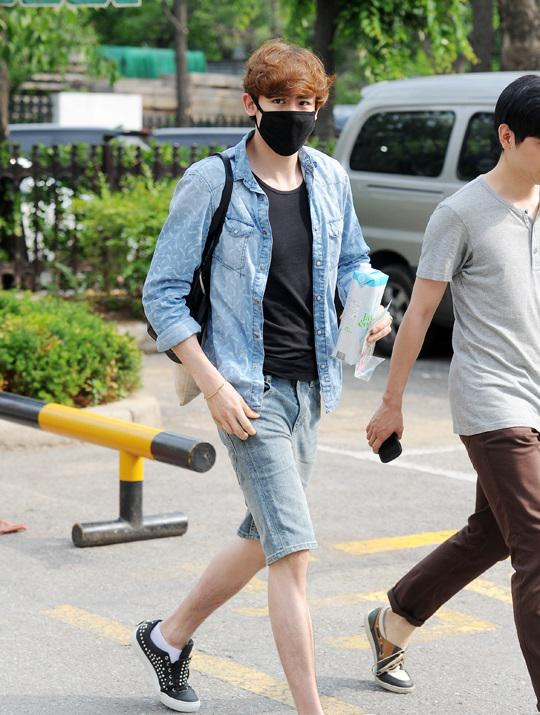OK: (258, 87, 323, 152)
